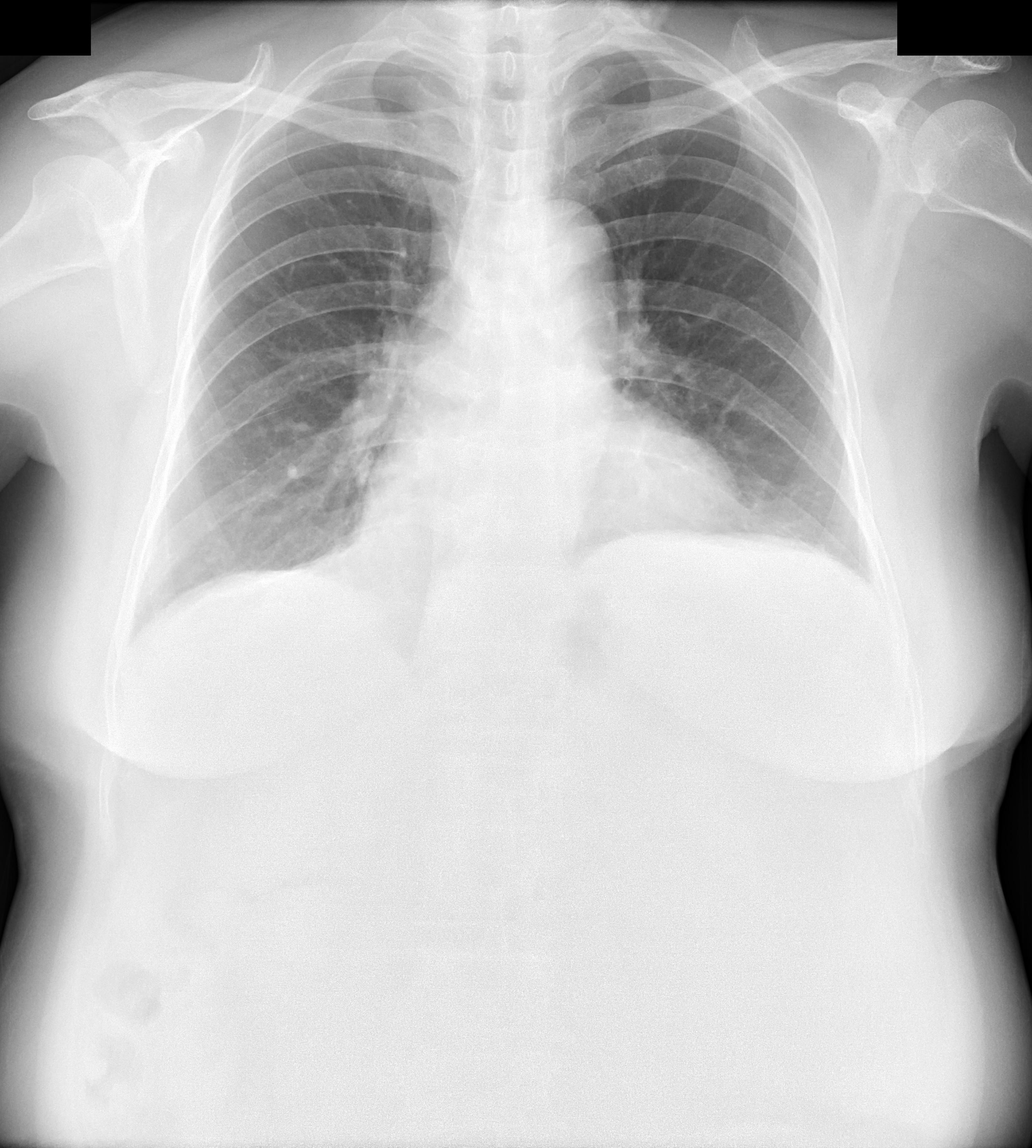Aortic enlargement: (507, 198, 618, 329)
Cardiomegaly: (358, 417, 758, 527)
Pleural thickening: (646, 43, 765, 116)
